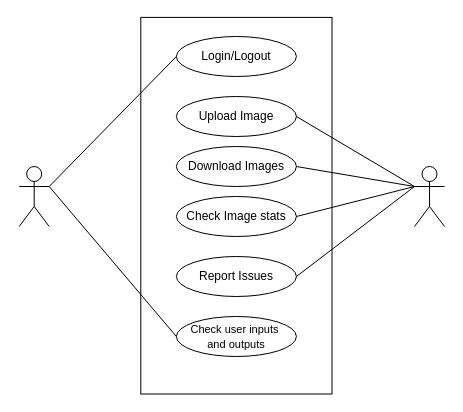
This 463x412 diagram has some shape labels left out. The shapes that lost their labels are listed below. From the top down, each one's centre as x and y in pixels, then its label:
At [33,196]: "Admin".
At [429,196]: "user".
